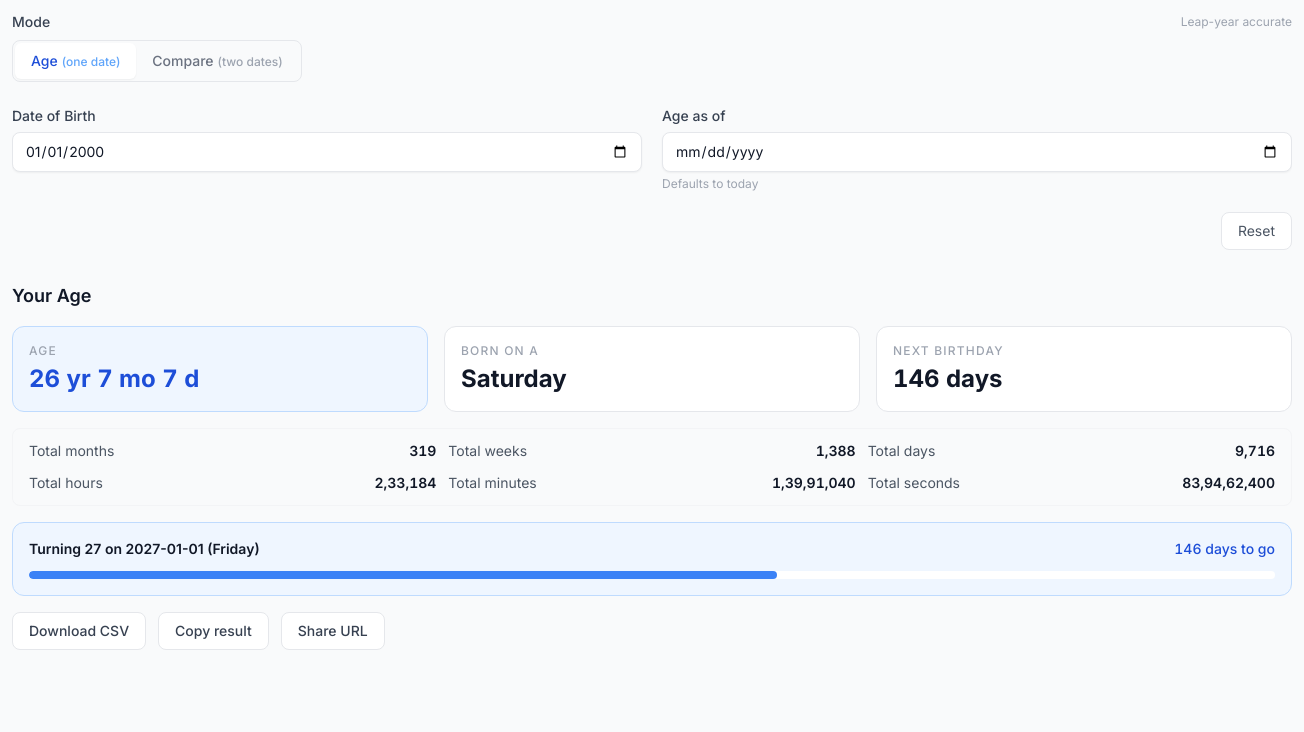
Test: AgeCalculator › reset restores the default date of birth
Type "1980-03-10" into the date field labelled "Date of Birth" at (327, 152), box [12,132,642,172]
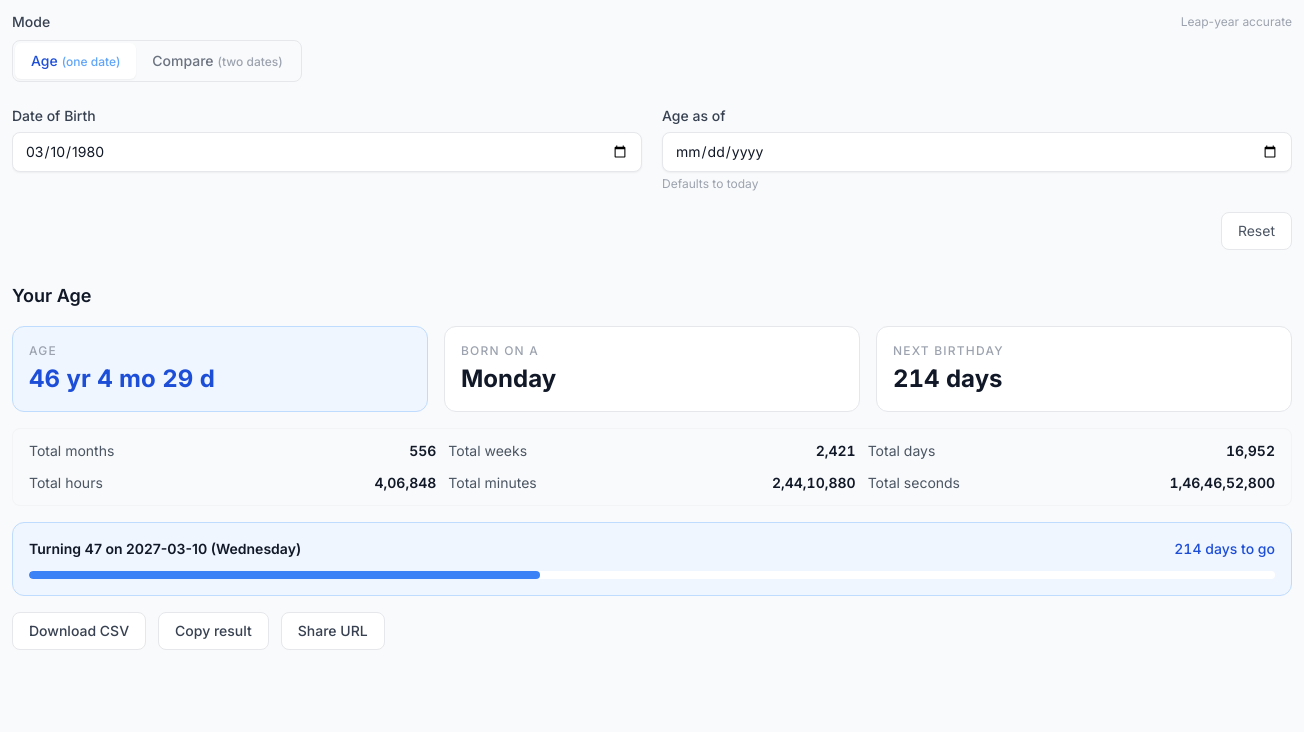
Click the button "Reset" at (1256, 231), box [1221,212,1292,250]
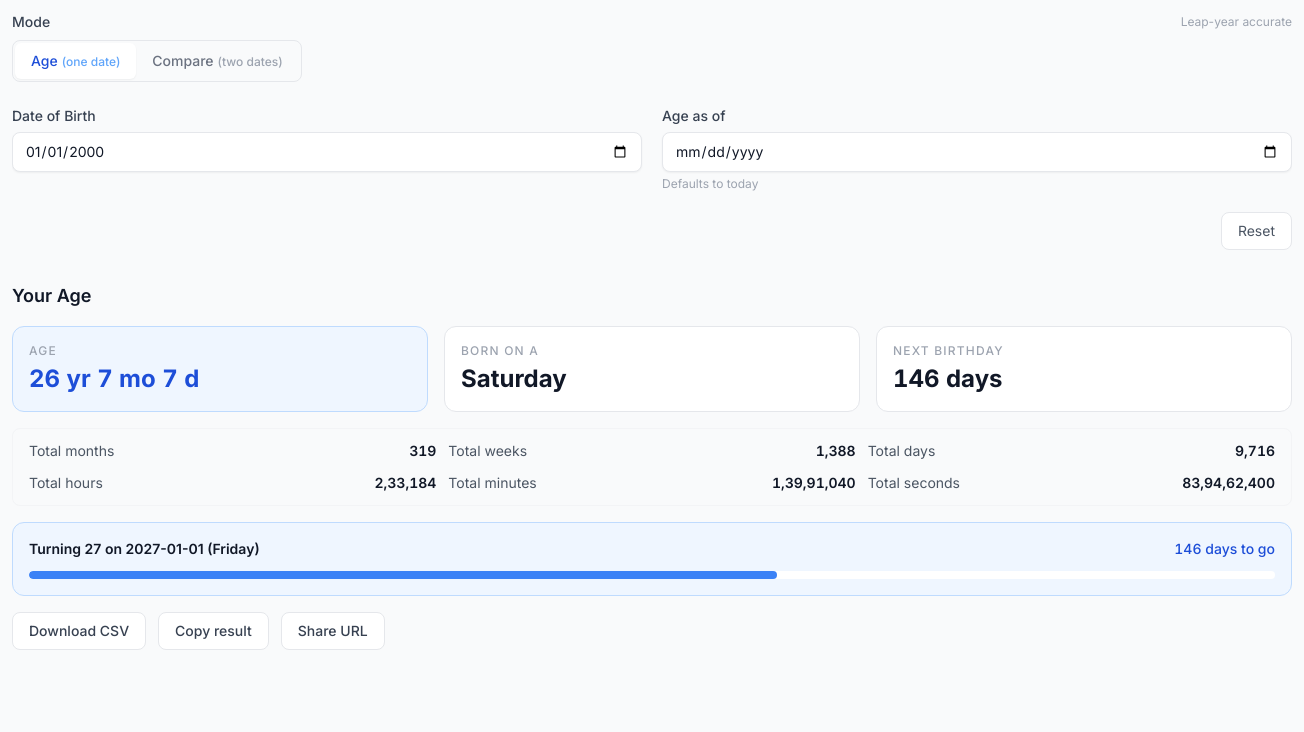
Now the date field labelled "Date of Birth" holds "2000-01-01", box [12,132,642,172]
